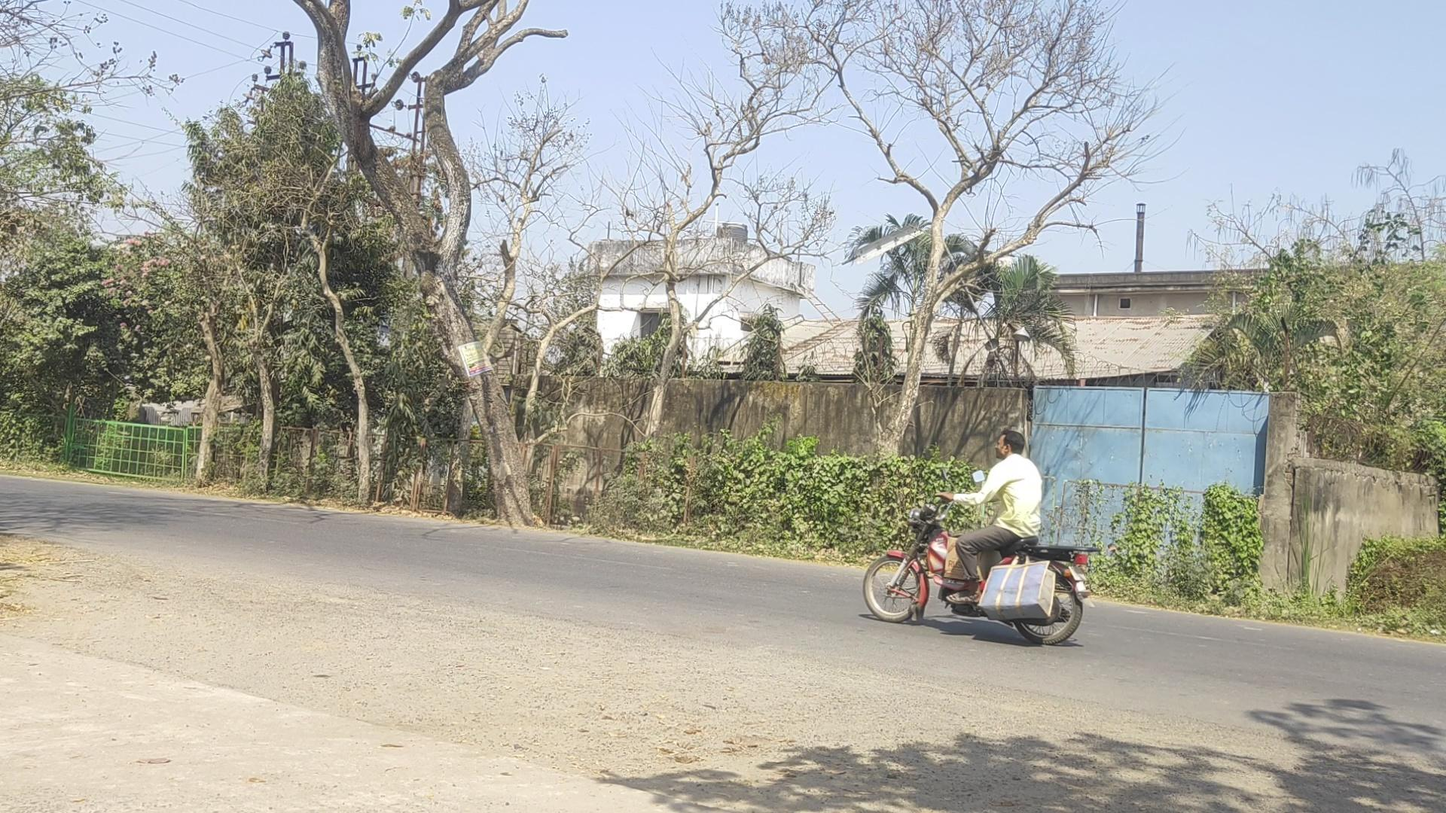bike: (862, 432, 1100, 645)
